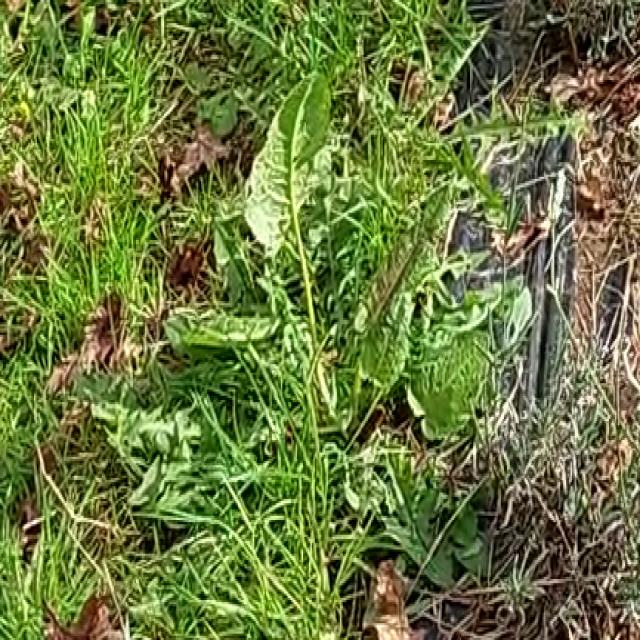organic waste: (170, 67, 517, 476)
